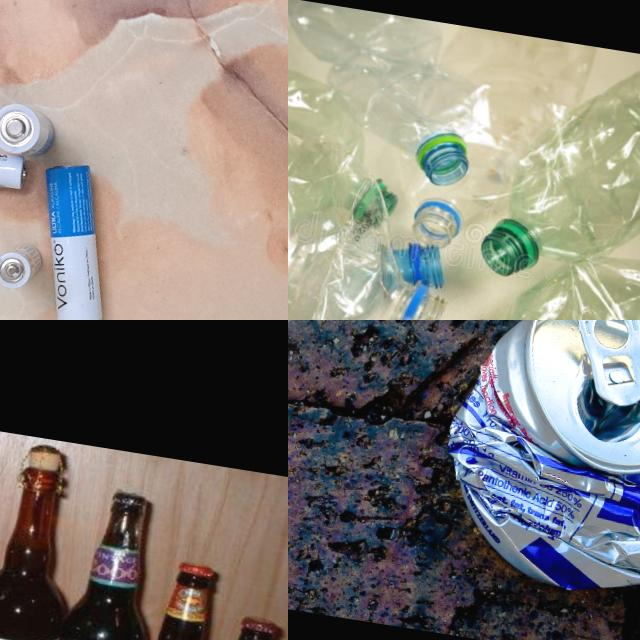aba de lata: (565, 320, 640, 410)
bateria: (22, 158, 127, 320), (0, 100, 59, 162), (0, 239, 45, 292), (0, 137, 28, 197)
garrafa de vidro: (29, 486, 175, 640), (0, 443, 96, 640), (110, 555, 233, 640)
garrafa plástica: (398, 21, 594, 270), (477, 34, 640, 315), (288, 84, 470, 320), (288, 0, 489, 187), (288, 0, 423, 237), (440, 201, 640, 320), (288, 197, 449, 320)
lata: (427, 320, 640, 610)
